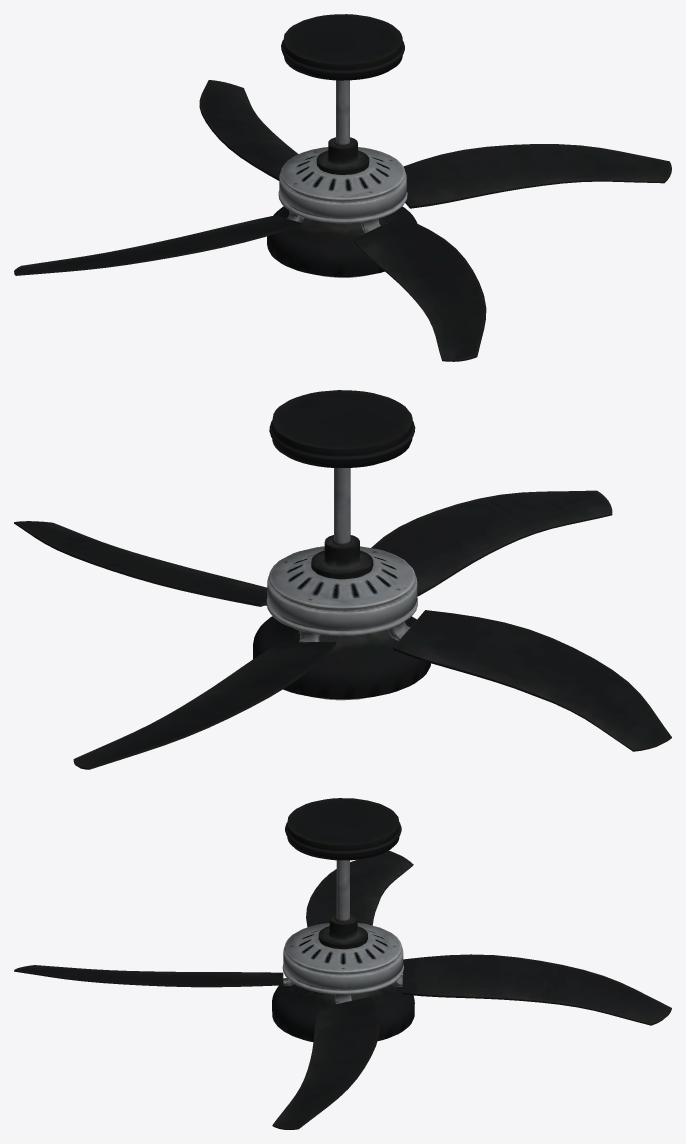
The model's file is ceiling_fan.glb.
3 renders of one model, top to bottom at view 1: azimuth 30°, elevation 25°; view 2: azimuth 150°, elevation 25°; view 3: azimuth 270°, elevation 25°, orthographic. The views are drawn at different scales.
Parts seen in each view (by area): view 1: ceiling_fan_blades, ceiling_fan; view 2: ceiling_fan_blades, ceiling_fan; view 3: ceiling_fan_blades, ceiling_fan.
Boxes of the visible parts, bbox=[...] form: ceiling_fan_blades: bbox=[14, 80, 671, 361]; ceiling_fan: bbox=[267, 14, 416, 277]; ceiling_fan_blades: bbox=[14, 490, 671, 769]; ceiling_fan: bbox=[253, 390, 430, 700]; ceiling_fan_blades: bbox=[14, 850, 671, 1129]; ceiling_fan: bbox=[272, 798, 414, 1041].
Size of the model in its own units: 1.46 by 0.5163 by 1.46.
Materials: 1 (1 with a texture image).
